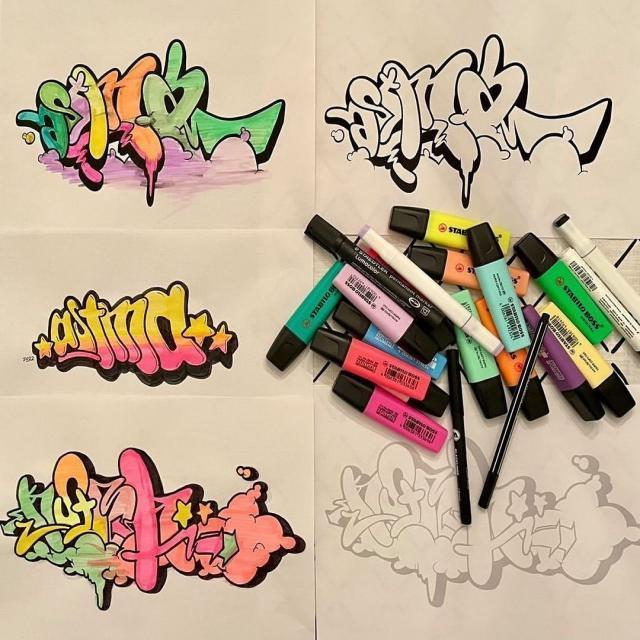-: (2, 424, 310, 612), (11, 34, 306, 208), (326, 31, 622, 202), (18, 249, 255, 389)
